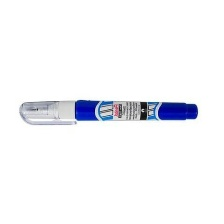correction_fluid: (17, 96, 201, 128)
